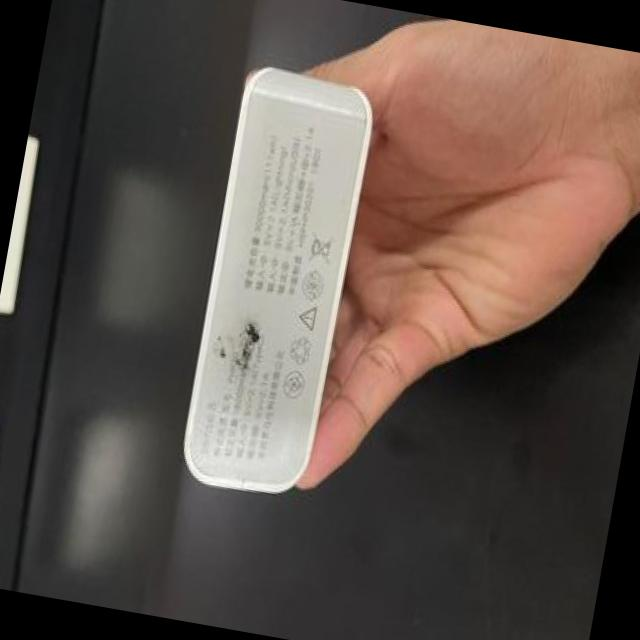portable-charger: (164, 56, 397, 514)
